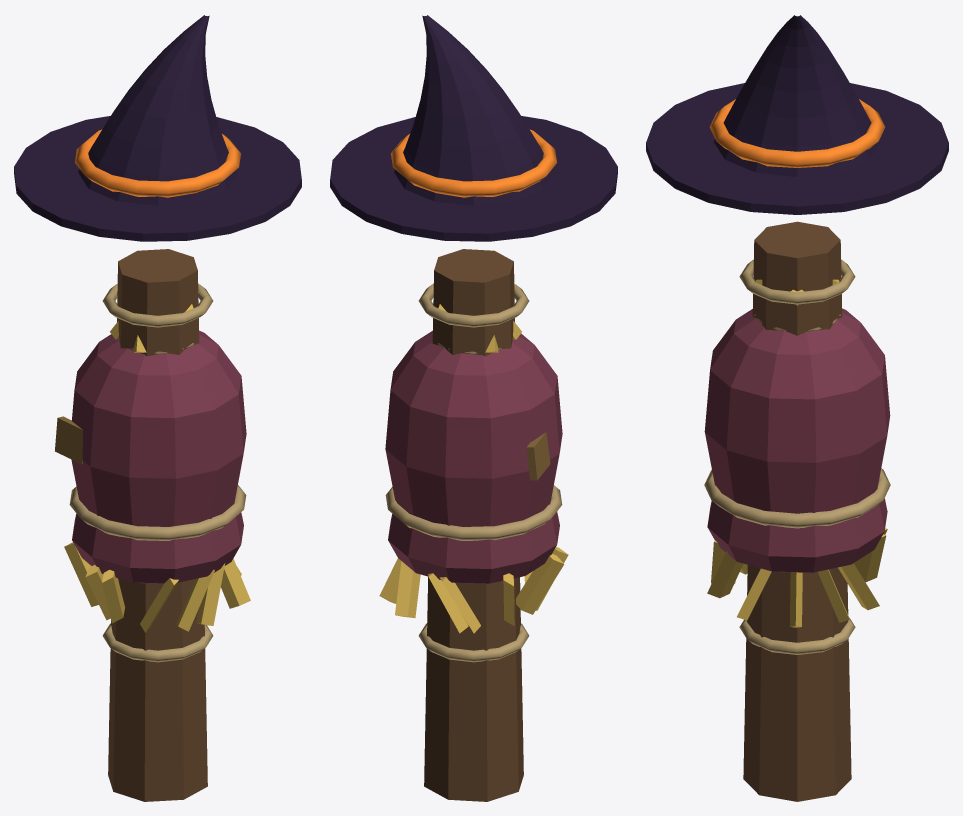
The model's file is scarecrow.glb.
3 renders of one model, left to right at view 1: azimuth 30°, elevation 25°; view 2: azimuth 150°, elevation 25°; view 3: azimuth 270°, elevation 25°, orthographic. The views are drawn at different scales.
Visible parts, largest first — view 1: scarecrow.001; view 2: scarecrow.001; view 3: scarecrow.001.
Part boxes in pixels (x1,y1,x2,y2): scarecrow.001: [14, 15, 301, 801]; scarecrow.001: [330, 15, 617, 801]; scarecrow.001: [646, 15, 948, 801].
Bounding box in the file's own units: 1.12 × 3.22 × 1.12.
